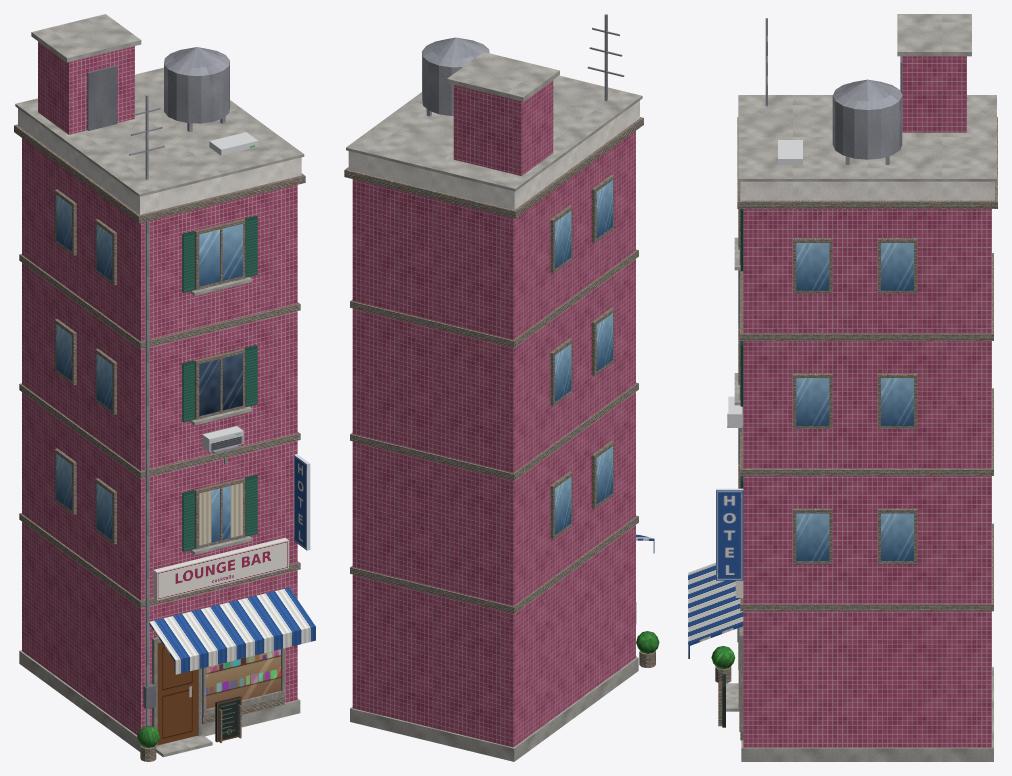
The model's file is b2_pink_tower.glb.
3 views of the same model, side by side, from view 1: azimuth 30°, elevation 25°; view 2: azimuth 150°, elevation 25°; view 3: azimuth 270°, elevation 25° (orthographic). The views are drawn at different scales.
Visible parts, largest first — view 1: wall, concrete, solid_#f4efe8, awning, metal, glass, solid_#f2efe6, parapet, shutter, sign, door, glass_shop (+7 smaller); view 2: wall, concrete, solid_#f4efe8, parapet, glass, metal, solid_#f2efe6; view 3: wall, concrete, glass, solid_#f4efe8, metal, parapet, solid_#f2efe6, awning, blade, ac, solid_#2e3338, shutter.
Boxes of the visible parts, x1,y1,x2,y2 form: wall: (22, 41, 297, 735); concrete: (15, 14, 304, 757); solid_#f4efe8: (14, 124, 305, 724); awning: (149, 587, 315, 674); metal: (129, 47, 239, 726); glass: (56, 195, 242, 539); solid_#f2efe6: (54, 189, 245, 549); parapet: (18, 108, 301, 214); shutter: (182, 216, 257, 551); sign: (153, 537, 288, 600); door: (157, 642, 197, 745); glass_shop: (206, 649, 280, 708); wall: (352, 80, 635, 747); concrete: (346, 52, 642, 761); solid_#f4efe8: (344, 117, 643, 613); parapet: (348, 100, 639, 209); glass: (555, 180, 612, 534); metal: (422, 14, 624, 116); solid_#f2efe6: (550, 175, 614, 539); wall: (743, 56, 991, 747); concrete: (726, 14, 996, 761); glass: (796, 243, 913, 561); solid_#f4efe8: (737, 117, 997, 740); metal: (727, 18, 902, 669); parapet: (740, 181, 994, 200); solid_#f2efe6: (738, 209, 917, 564); awning: (688, 562, 743, 658); blade: (716, 488, 743, 580); ac: (728, 140, 802, 427); solid_#2e3338: (738, 626, 743, 731); shutter: (740, 209, 743, 488).
Bounding box in the file's own units: 4.21 × 14.9 × 6.23.
Materials: 23 (23 with a texture image).
